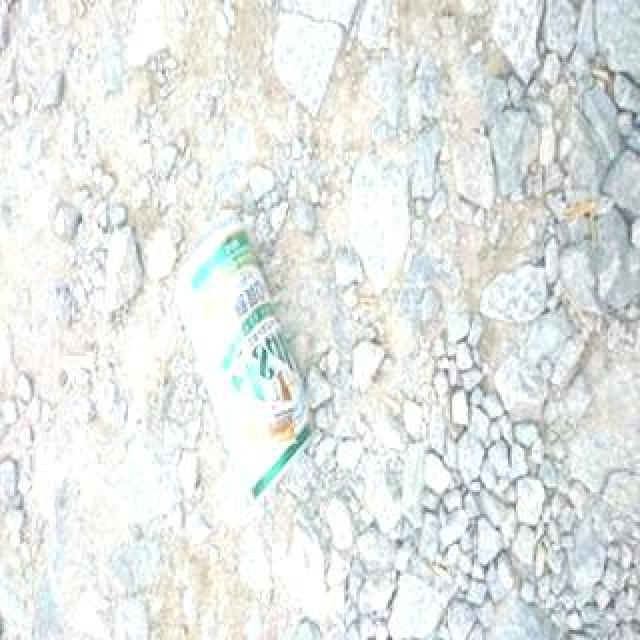Can: (168, 216, 320, 502)
